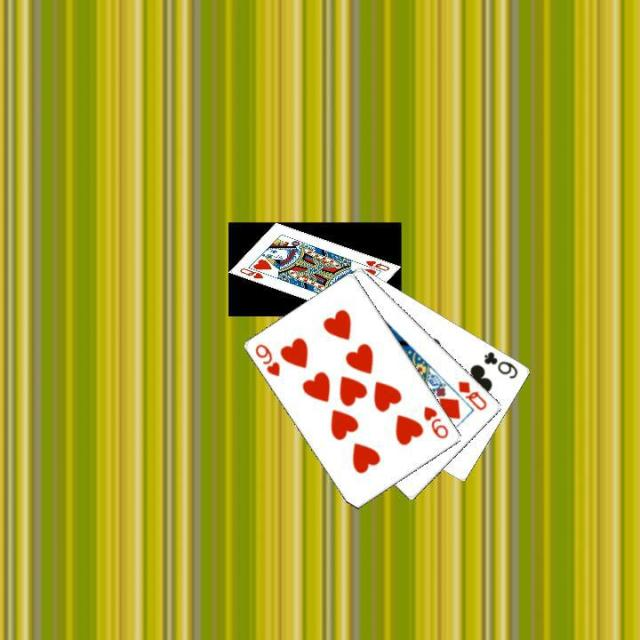6C: (480, 348, 520, 380)
9H: (420, 402, 450, 441), (252, 341, 282, 378)
QD: (454, 377, 489, 412)
